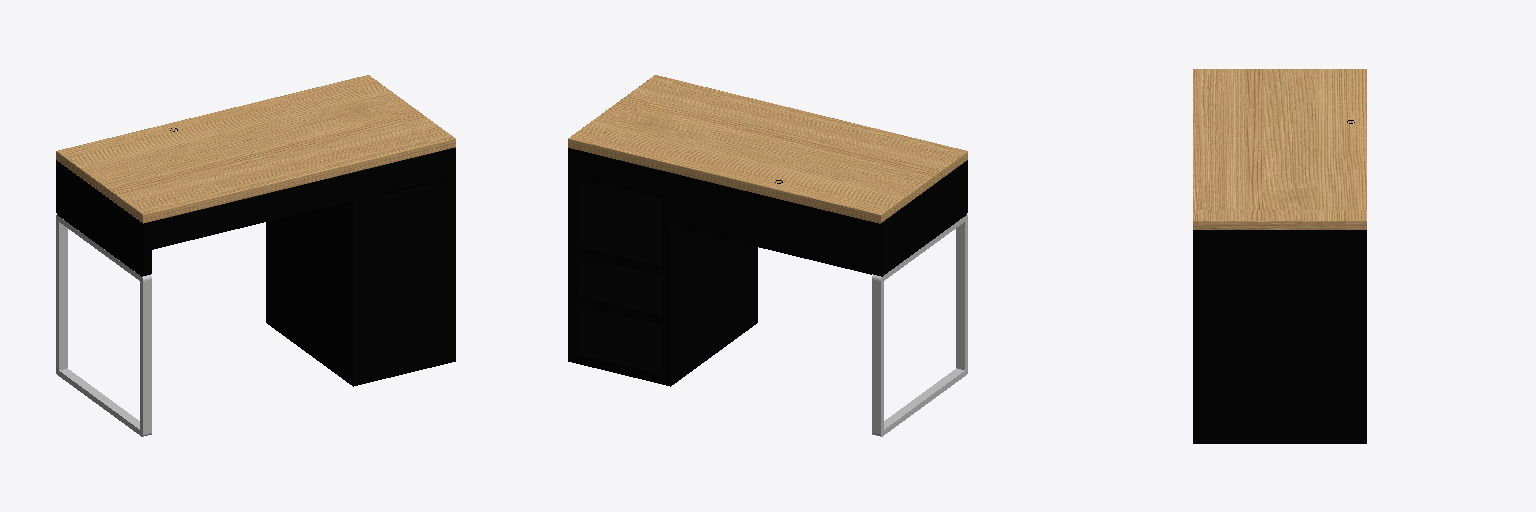
3 views of the same model, side by side, from view 1: azimuth 30°, elevation 25°; view 2: azimuth 150°, elevation 25°; view 3: azimuth 270°, elevation 25° (orthographic).
Parts seen in each view (by area): view 1: Ikea_mice_Desk_Plane.009; view 2: Ikea_mice_Desk_Plane.009; view 3: Ikea_mice_Desk_Plane.009.
Part boxes in pixels (x1,y1,x2,y2): Ikea_mice_Desk_Plane.009: (56, 75, 455, 436); Ikea_mice_Desk_Plane.009: (568, 75, 967, 436); Ikea_mice_Desk_Plane.009: (1193, 69, 1366, 443).
Bounding box in the file's own units: 1.05 × 0.7146 × 0.5062.
4 materials, 1 textured.